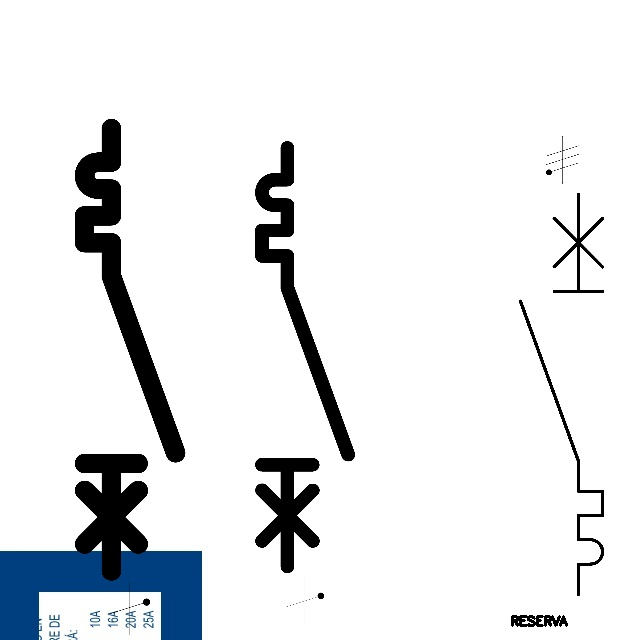interruptor_termomagnetico: (73, 117, 187, 582), (251, 137, 358, 577), (510, 183, 613, 605)
